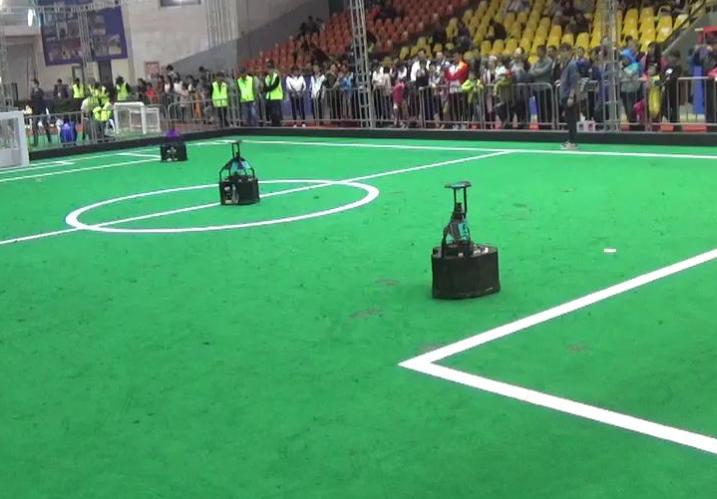robot: (426, 180, 504, 301), (214, 136, 263, 209), (153, 116, 193, 164)
